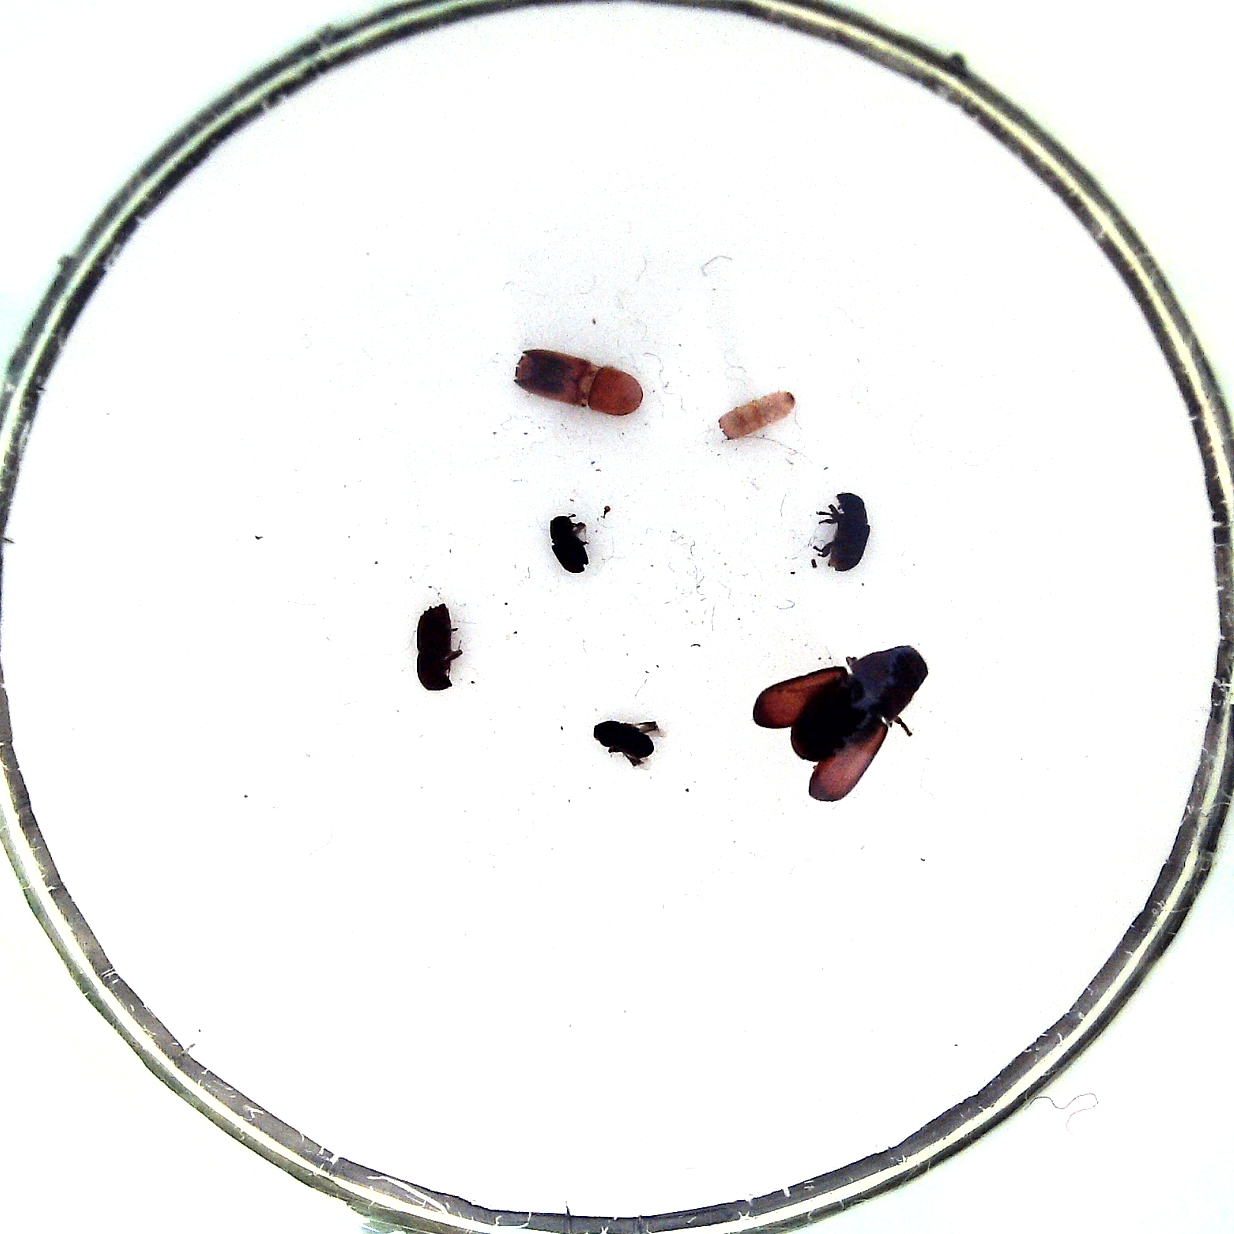Boerner: (513, 349, 644, 416)
Leconte: (790, 644, 928, 762)
acuminatus: (592, 720, 653, 761)
armandi: (829, 492, 871, 572)
coleoptera: (550, 516, 589, 574)
linnaeus: (716, 392, 796, 438), (416, 603, 453, 692)
